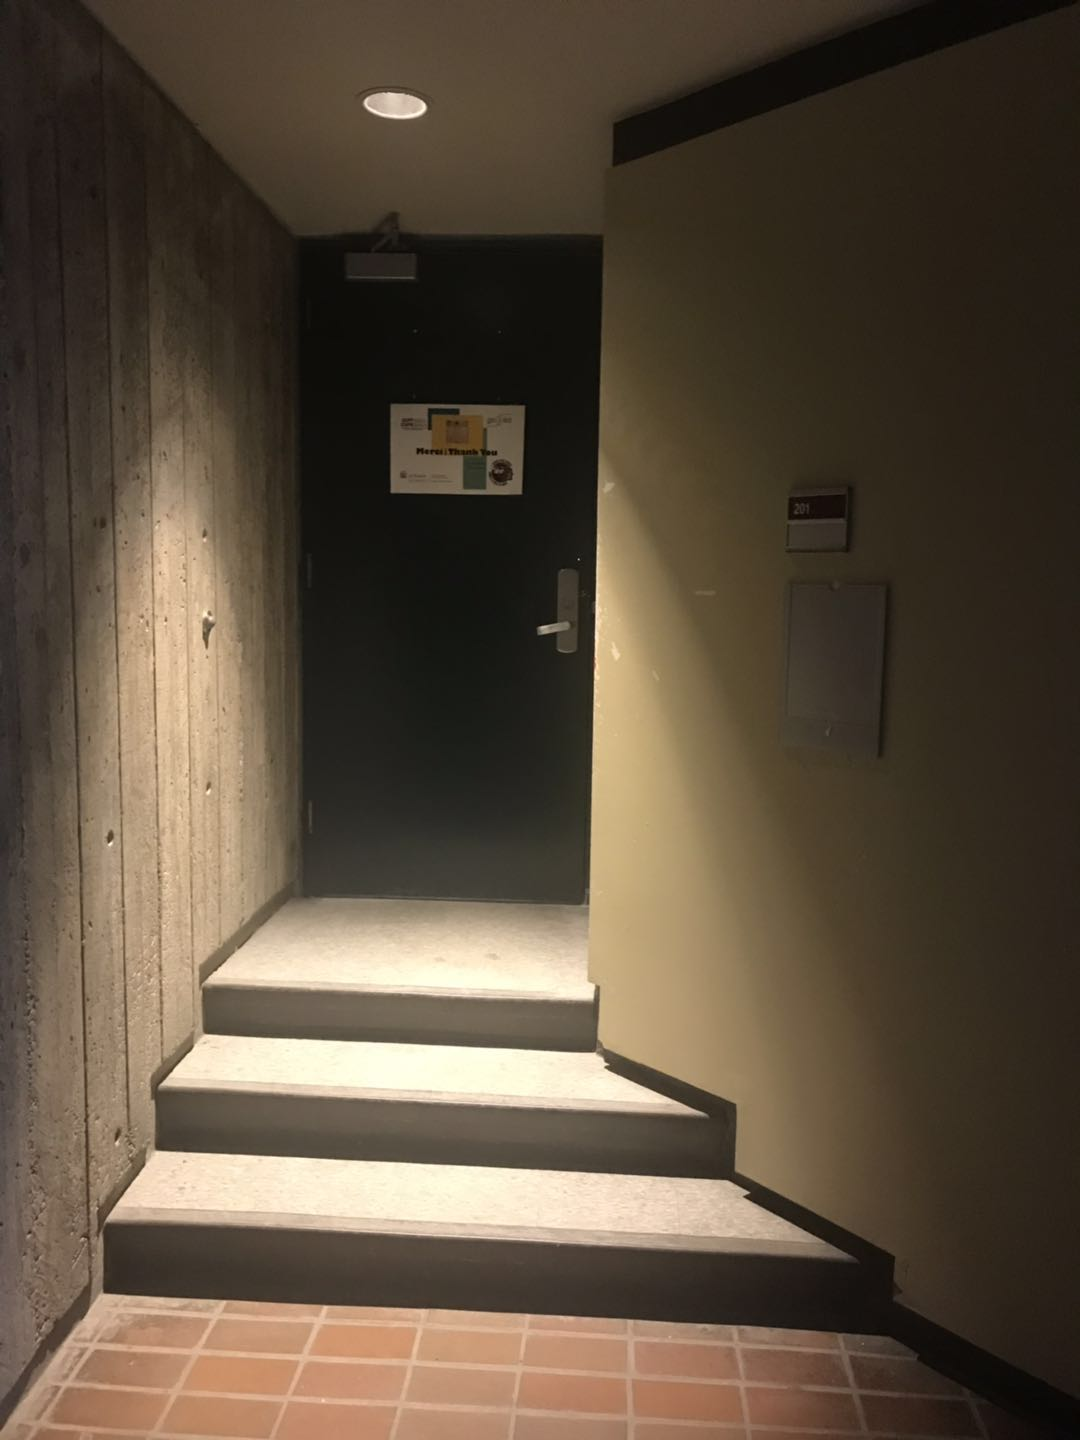door: (302, 242, 604, 906)
sign: (393, 403, 525, 494)
stair: (100, 973, 880, 1329)
